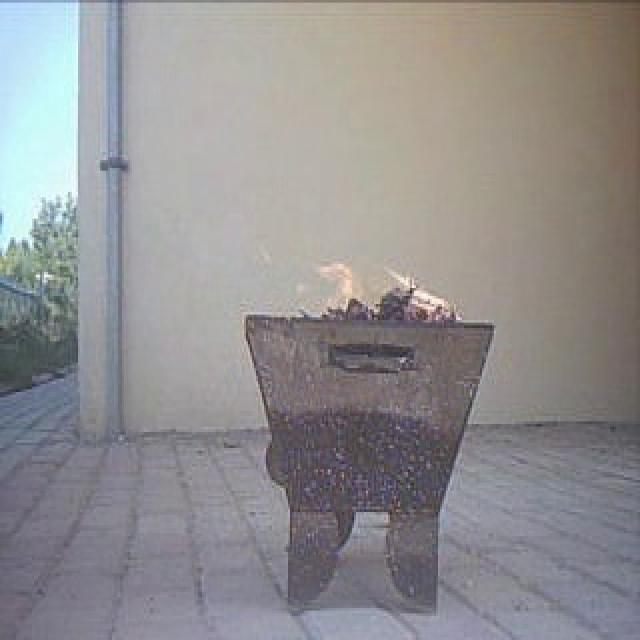Fire: (287, 254, 459, 324)
